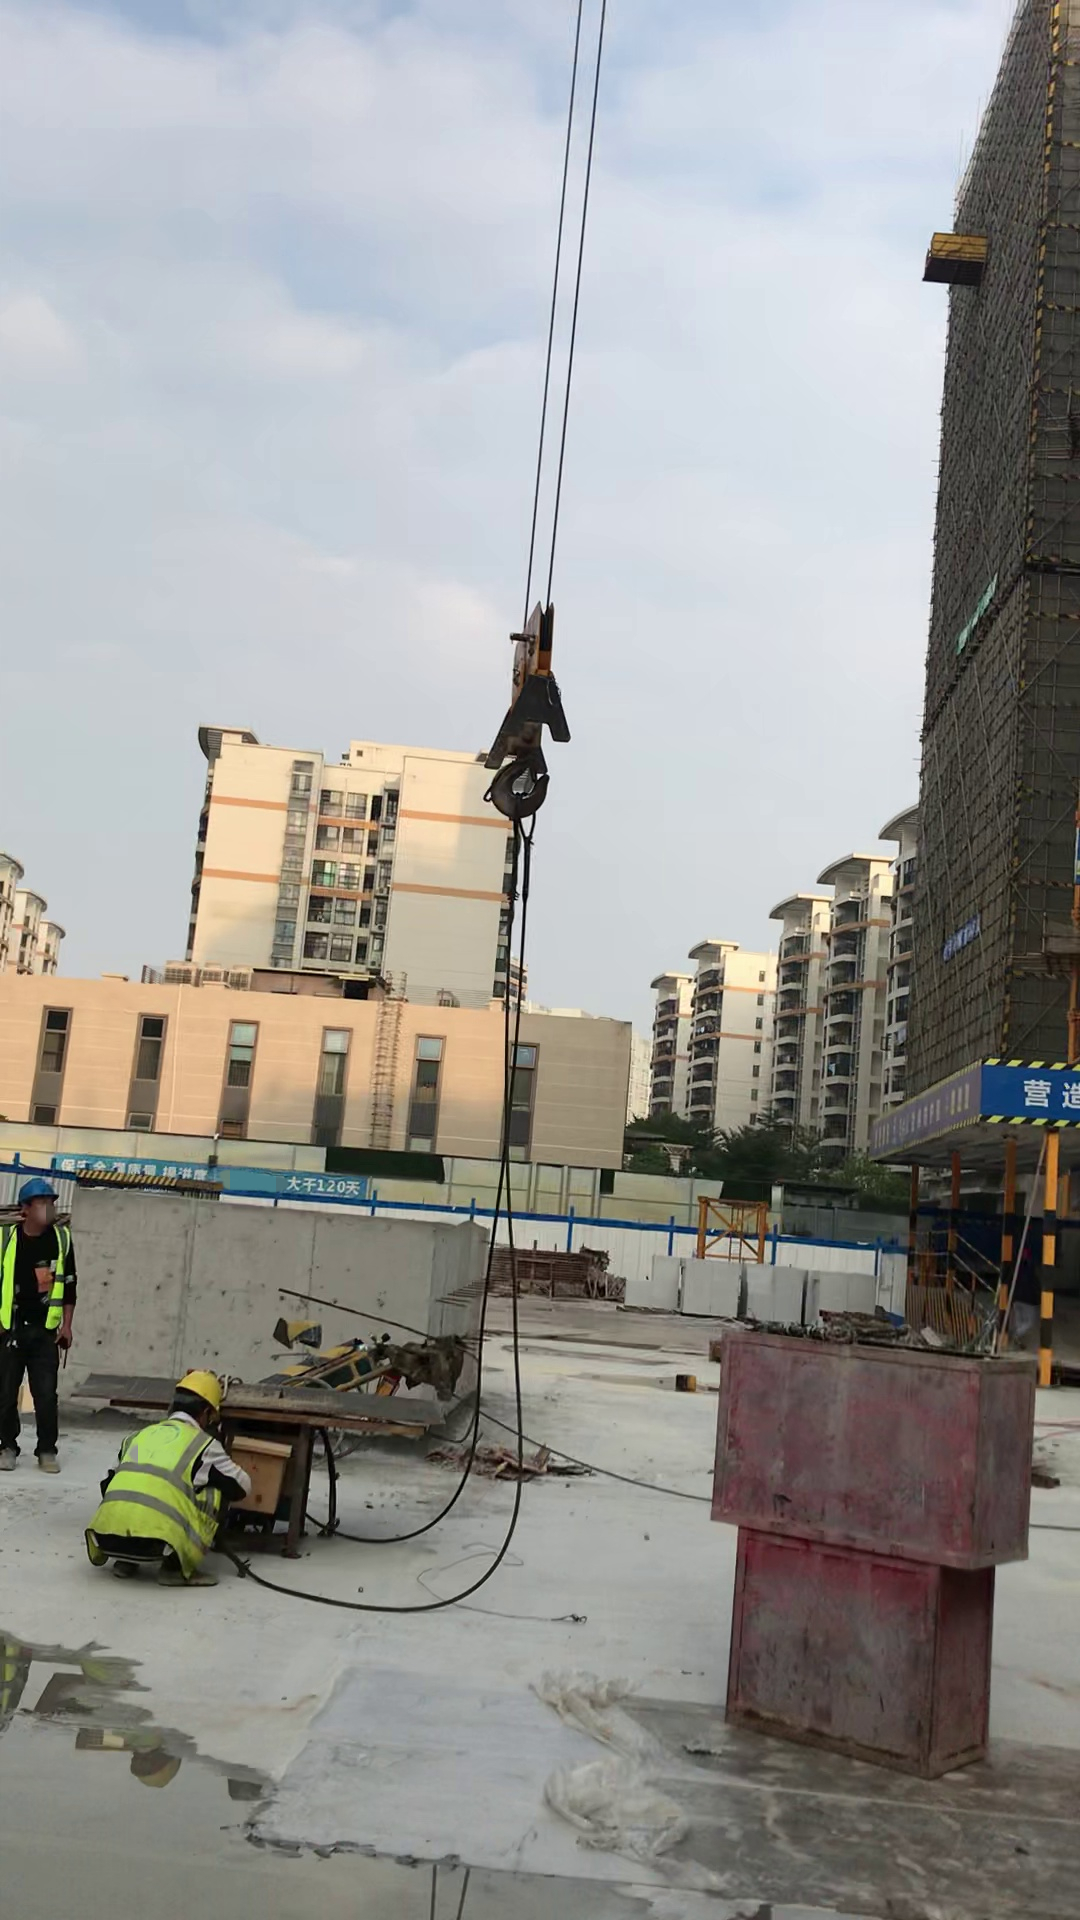brick: (796, 1259, 879, 1341), (747, 1256, 808, 1328), (680, 1254, 741, 1323), (622, 1252, 679, 1315)
cutter: (65, 1365, 428, 1545)
helmet: (175, 1365, 223, 1407), (16, 1176, 59, 1205)
hook: (483, 604, 566, 816)
person: (80, 1374, 268, 1582), (1, 1172, 76, 1472)
slogan: (57, 1158, 217, 1186)
vest: (86, 1416, 234, 1577), (1, 1217, 70, 1343)
